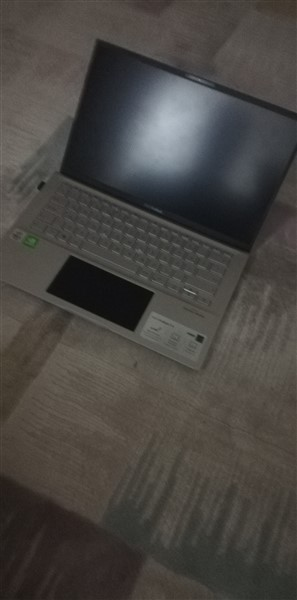laptop: (2, 36, 296, 370)
